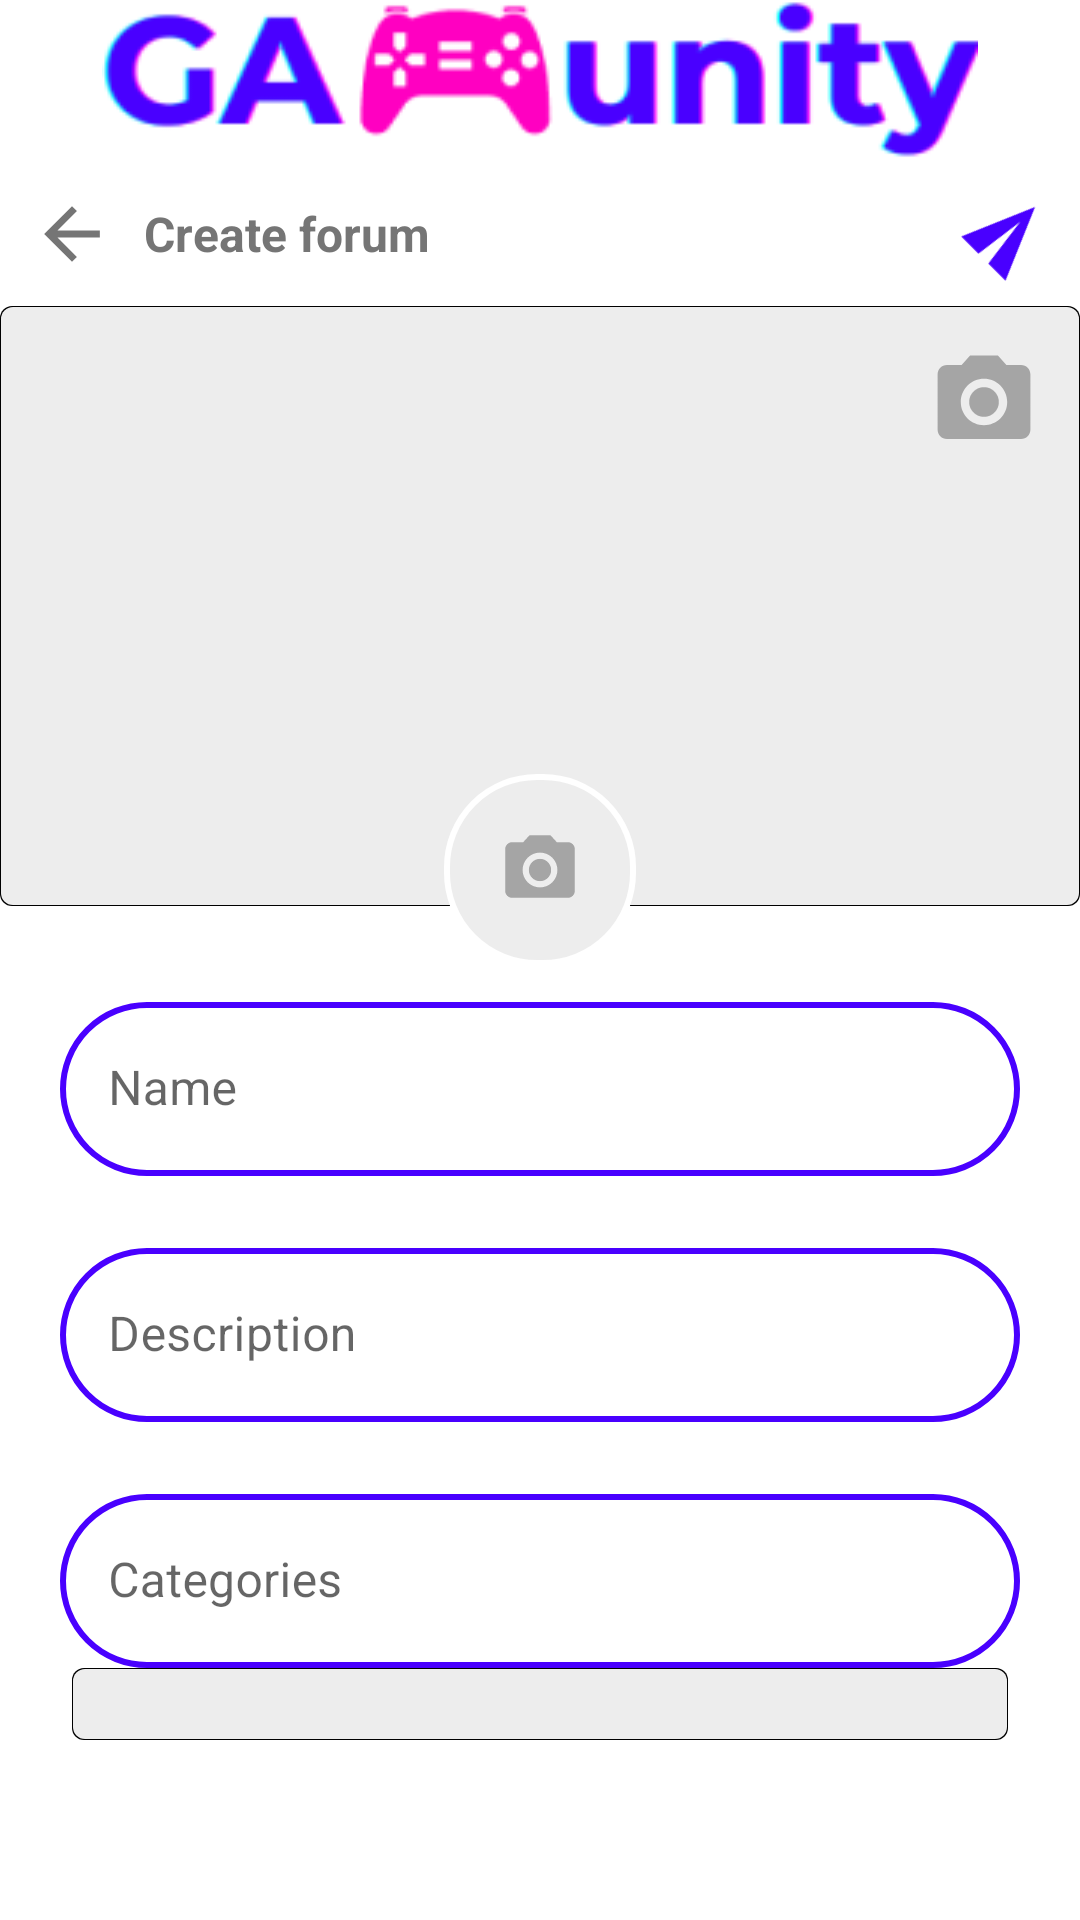

Locate icon controls on the screen. Image size 1080w x 1920h, boxes as (x1, y1, x2, y2).
back: (44, 206, 100, 262)
camera: (937, 355, 1031, 439), (505, 835, 575, 898)
